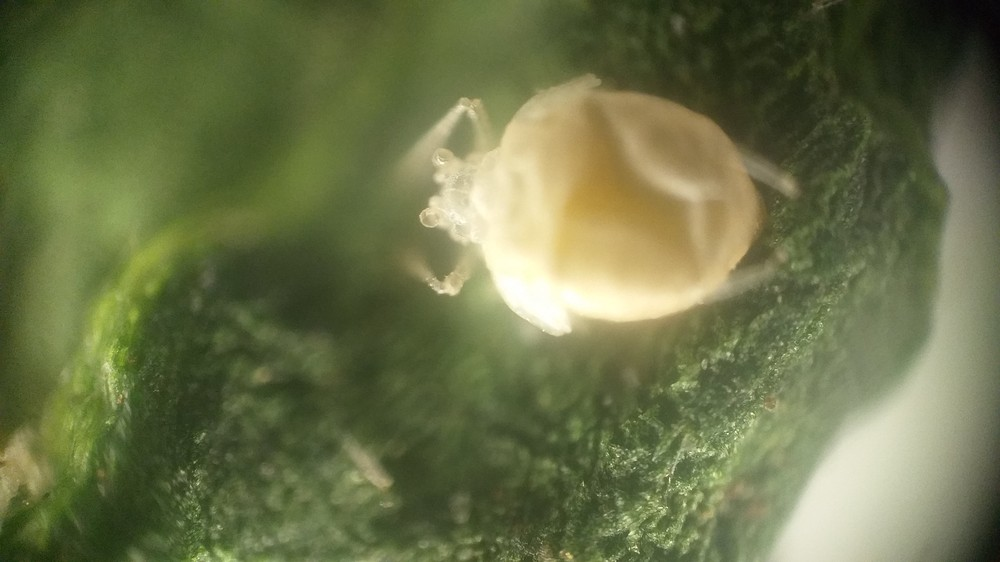Pulgon: (367, 58, 813, 346)
